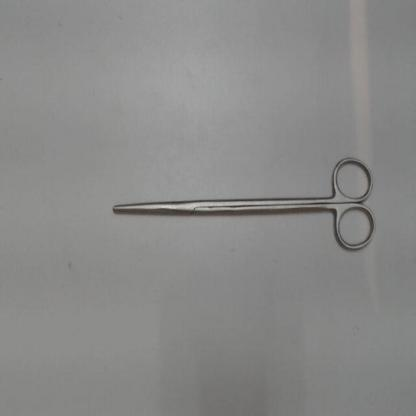9 Metzenbaum Scissors: (110, 147, 381, 260)
